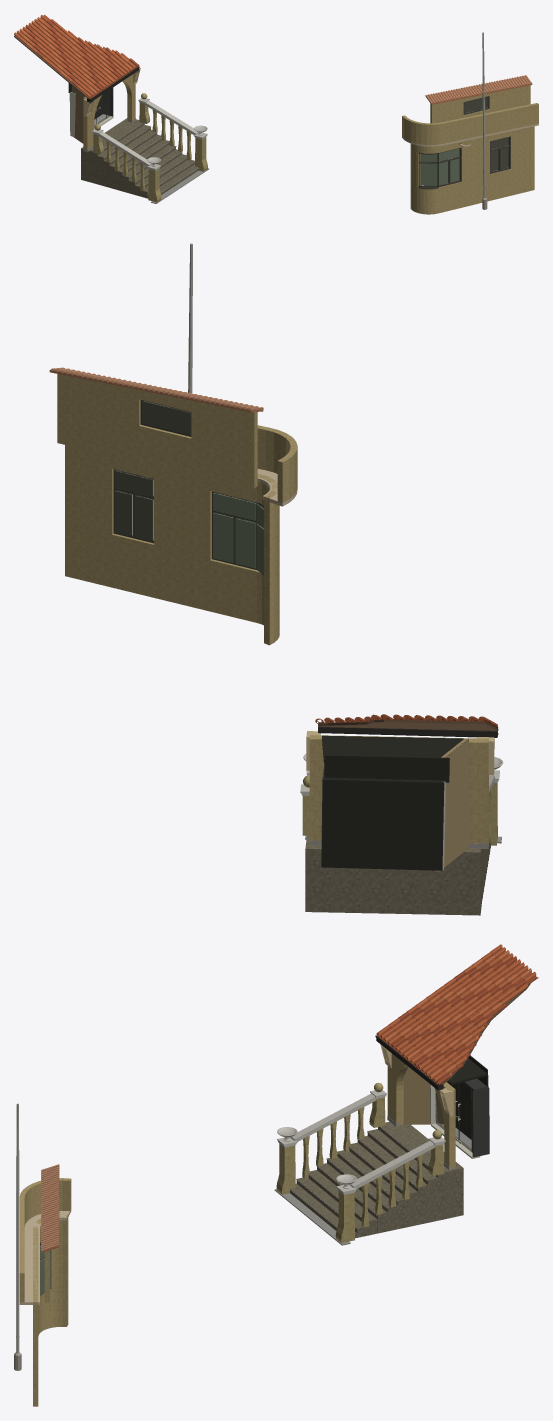
The model's file is lod-source.glb.
3 renders of one model, top to bottom at view 1: azimuth 30°, elevation 25°; view 2: azimuth 150°, elevation 25°; view 3: azimuth 270°, elevation 25°, orthographic. The views are drawn at different scales.
Visible parts, largest first — view 1: 长乐路325号院内弧窗与红瓦券廊; view 2: 长乐路325号院内弧窗与红瓦券廊; view 3: 长乐路325号院内弧窗与红瓦券廊.
Boxes of the visible parts, <box> form: 长乐路325号院内弧窗与红瓦券廊: <box>14,14,538,214</box>; 长乐路325号院内弧窗与红瓦券廊: <box>49,243,503,915</box>; 长乐路325号院内弧窗与红瓦券廊: <box>14,944,538,1406</box>.
Bounding box in the file's own units: 20.39 × 9.42 × 16.96.
Materials: 35 (3 with a texture image).
